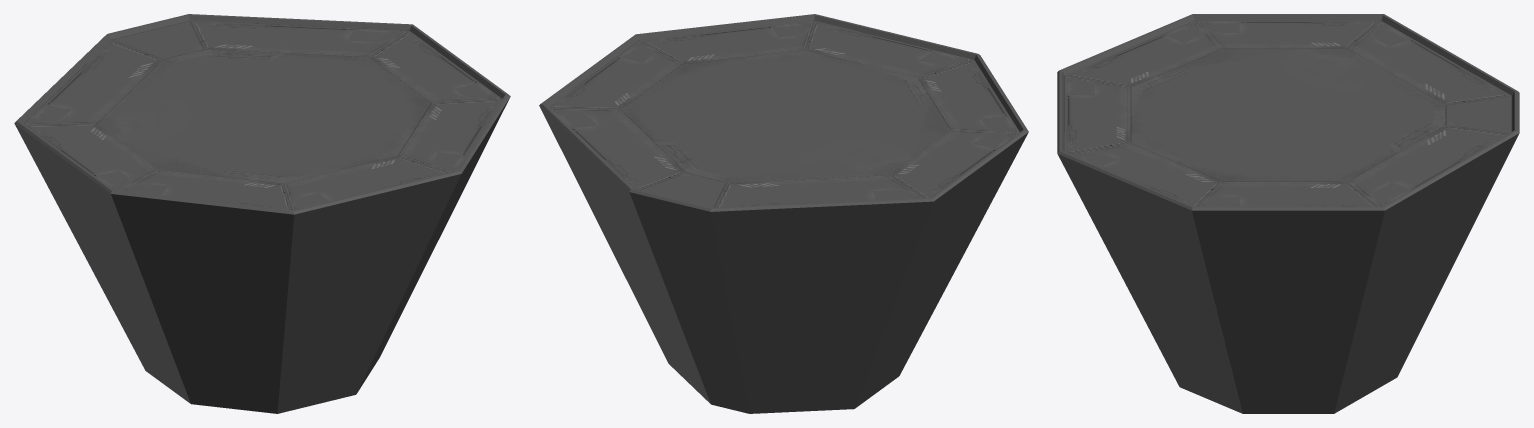
File: Platform_01.FBX
The picture shows the model from 3 angles, left to right: view 1: azimuth 30°, elevation 25°; view 2: azimuth 150°, elevation 25°; view 3: azimuth 270°, elevation 25°; orthographic projection.
Parts seen in each view (by area): view 1: Box001; view 2: Box001; view 3: Box001.
Boxes of the visible parts, x1,y1,x2,y2 form: Box001: (14,14,510,413); Box001: (539,14,1028,413); Box001: (1057,14,1519,413).
Size of the model in its own units: 299 by 184 by 299.
